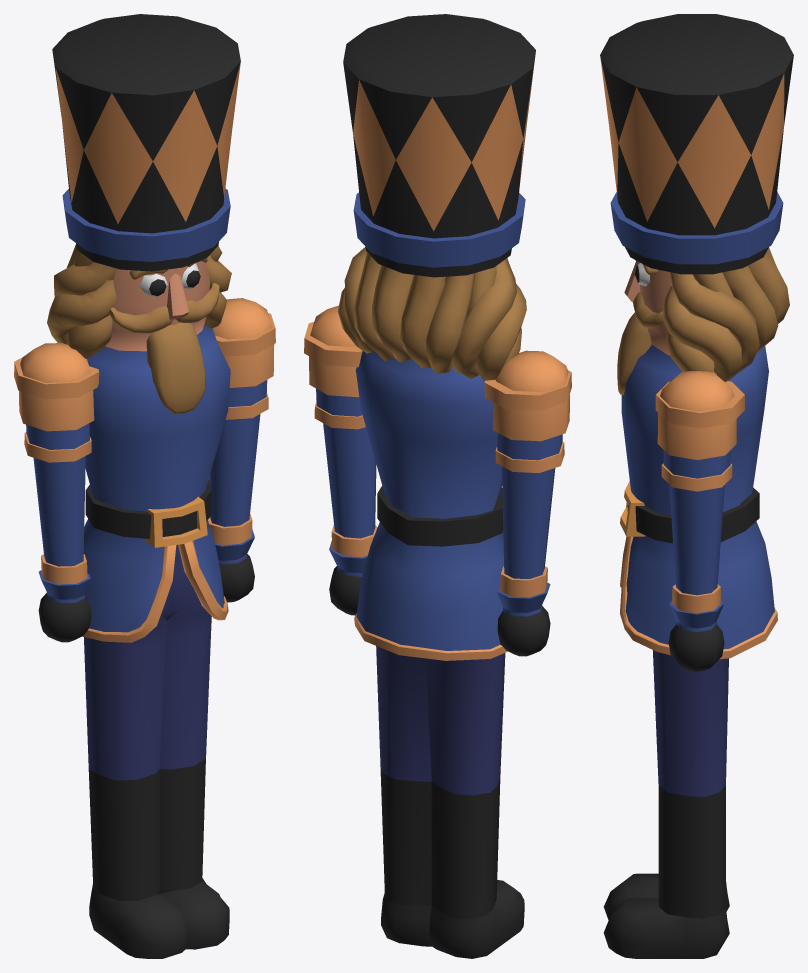
The model's file is NutCracker_01.fbx.
The picture shows the model from 3 angles, left to right: view 1: azimuth 30°, elevation 25°; view 2: azimuth 150°, elevation 25°; view 3: azimuth 270°, elevation 25°; orthographic projection. The views are drawn at different scales.
Parts seen in each view (by area): view 1: NutCracker_01; view 2: NutCracker_01; view 3: NutCracker_01.
Boxes of the visible parts, x1,y1,x2,y2 form: NutCracker_01: [14, 14, 275, 958]; NutCracker_01: [304, 14, 571, 958]; NutCracker_01: [600, 14, 793, 958].
Bounding box in the file's own units: 0.1498 × 0.4922 × 0.0978.
